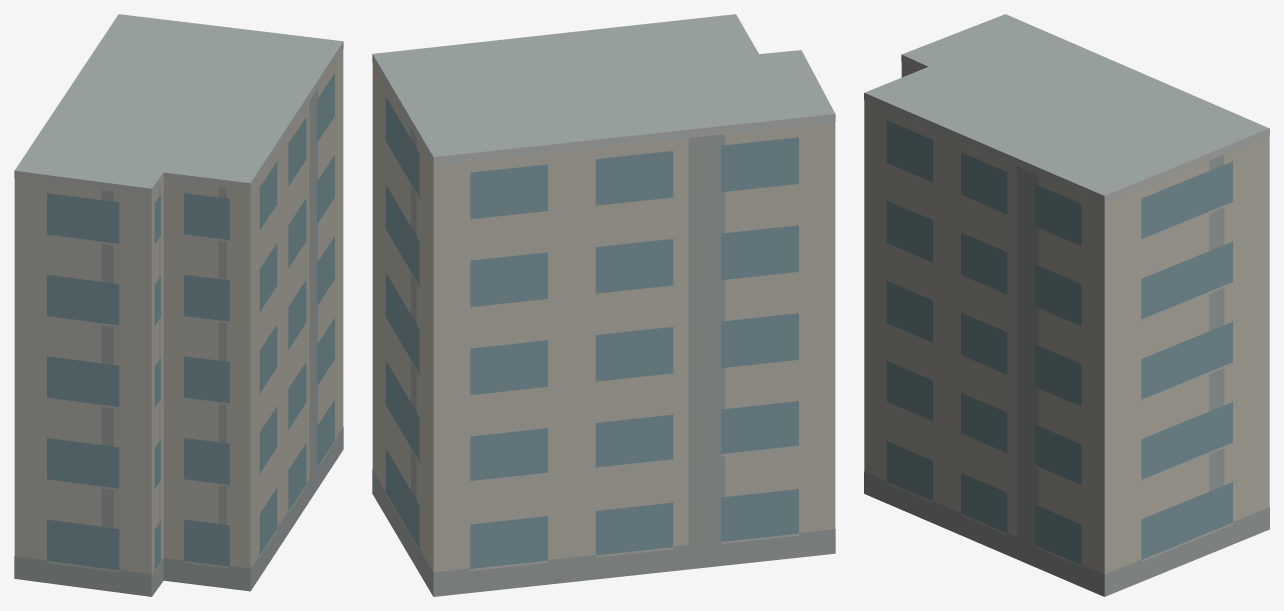
The model's file is survey-upis-33005326.glb.
3 renders of one model, left to right at view 1: azimuth 30°, elevation 25°; view 2: azimuth 150°, elevation 25°; view 3: azimuth 270°, elevation 25°, orthographic. The views are drawn at different scales.
Parts seen in each view (by area): view 1: survey-upis-33005326.tmp; view 2: survey-upis-33005326.tmp; view 3: survey-upis-33005326.tmp.
Boxes of the visible parts, <box> form: survey-upis-33005326.tmp: <box>14,14,343,596</box>; survey-upis-33005326.tmp: <box>372,14,835,596</box>; survey-upis-33005326.tmp: <box>864,14,1269,596</box>.
Bounding box in the file's own units: 12.46 × 12.8 × 11.74.
